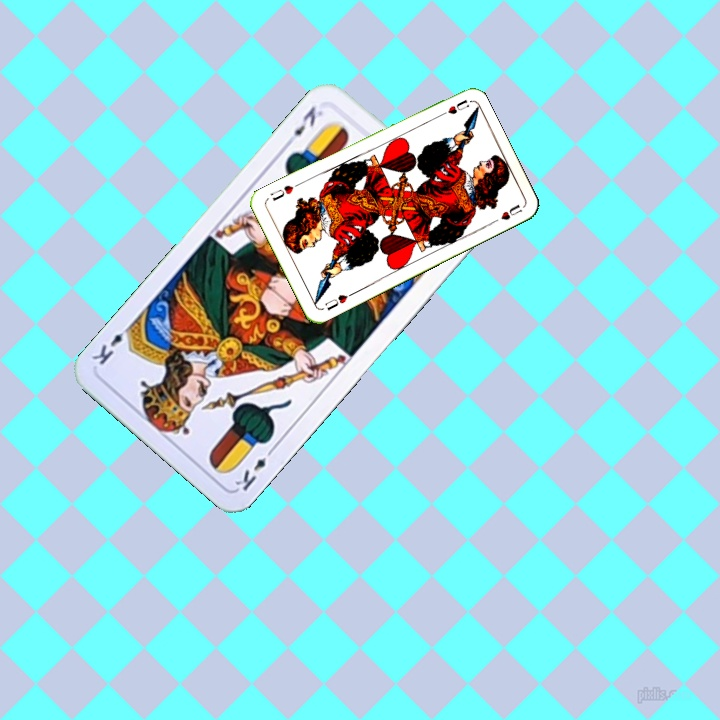EK: (230, 442, 278, 494), (281, 102, 326, 149)
HU: (433, 95, 472, 121), (321, 288, 356, 313)
